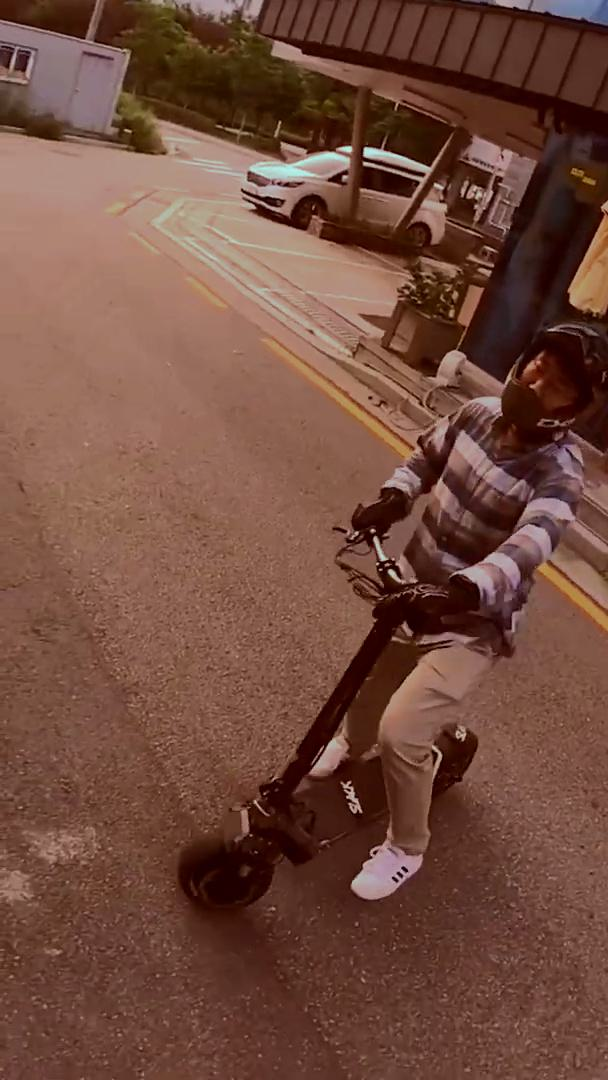helmet: (177, 319, 608, 917)
